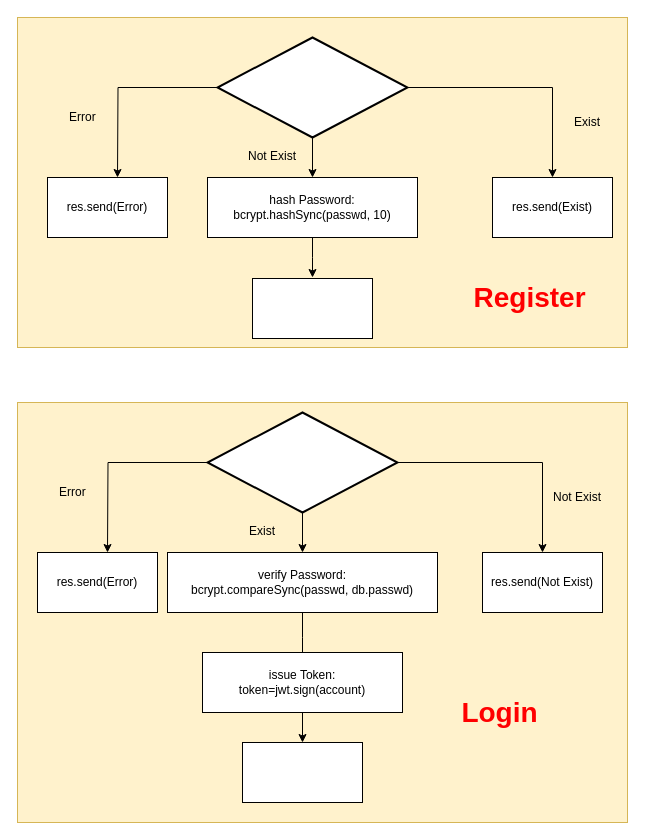
Image size: 650x840. Some labels were removed from this diagram. The shapes that lost their labels are listed below. From the top down, each one's centre as x and y in pixels, then its label:
At pixel 312 87: "Account.findOne (username, email, phone)".
At pixel 312 308: "account.save()".
At pixel 302 462: "Account.findOne (username)".
At pixel 302 772: "res.json({token})".
